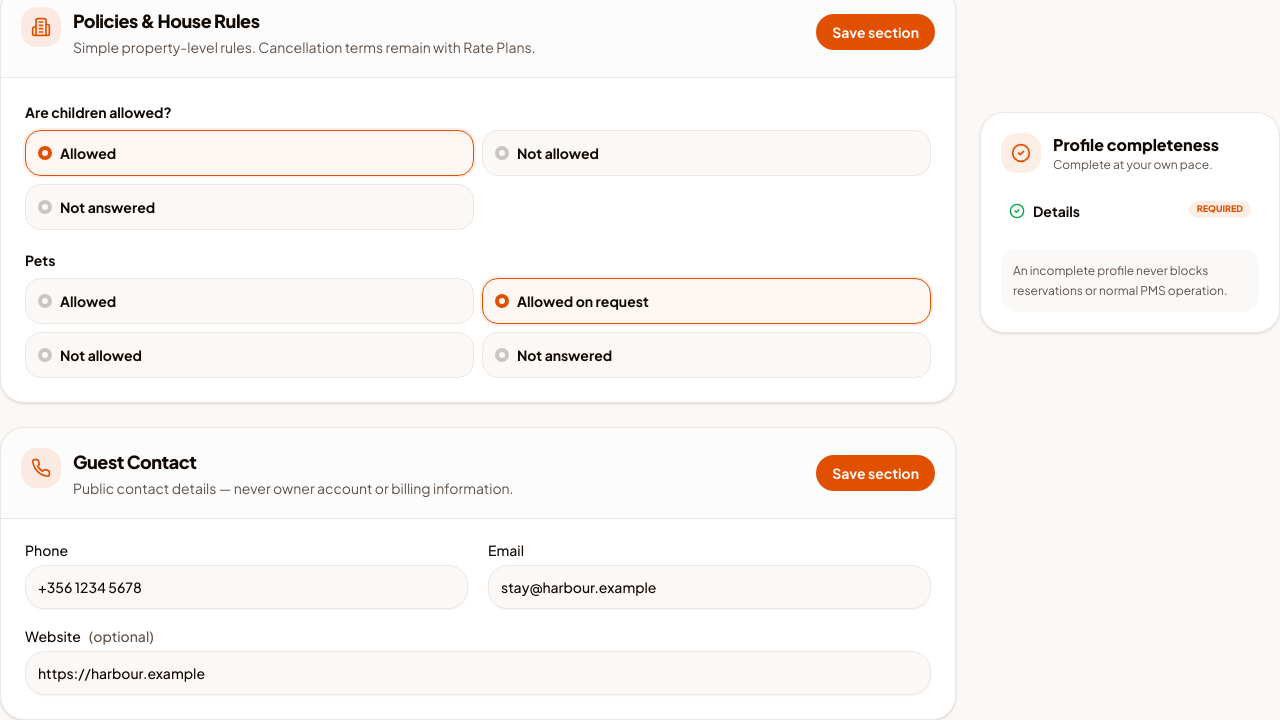
PropertyProfileSettings › submits only Guest Contact with the unchanged endpoint and payload, then resets to saved values
(page scrolled)
Replace the text in the field labelled "Phone" with "+356 9999 0000". click: coordinates (246, 587)
box: [25,565,468,609]
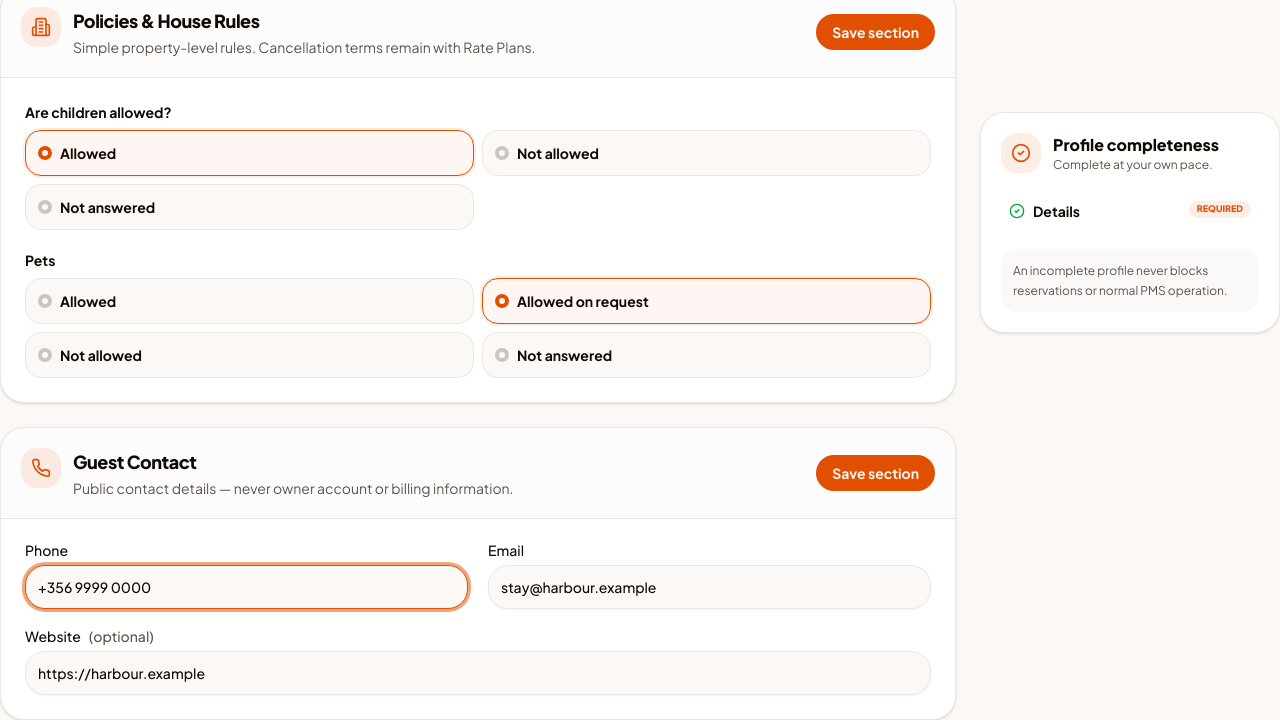
Click the button "Save section" in the row of "Guest Contact". click: coordinates (876, 473)
box: [816,455,935,491]
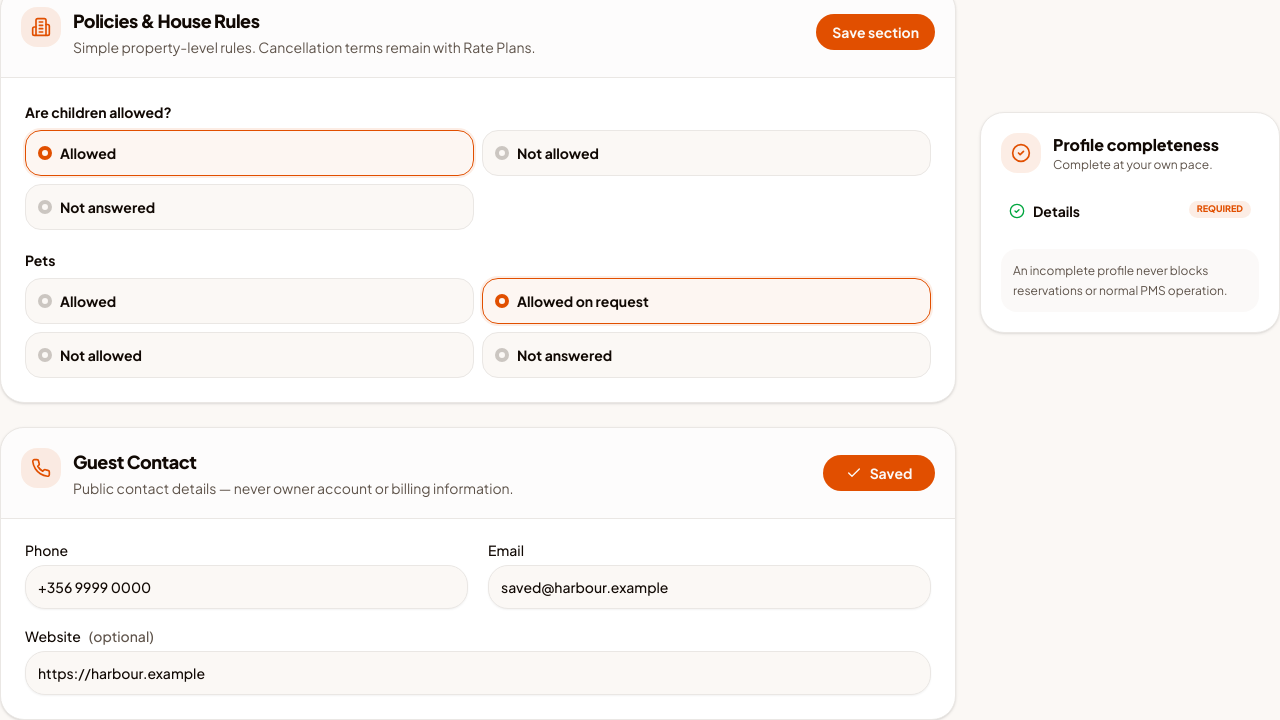
Expected: the field labelled "Website (optional)" holds "https://harbour.example", [25,651,931,695]
Now the field labelled "Email" holds "saved@harbour.example", box [488,565,931,609]
